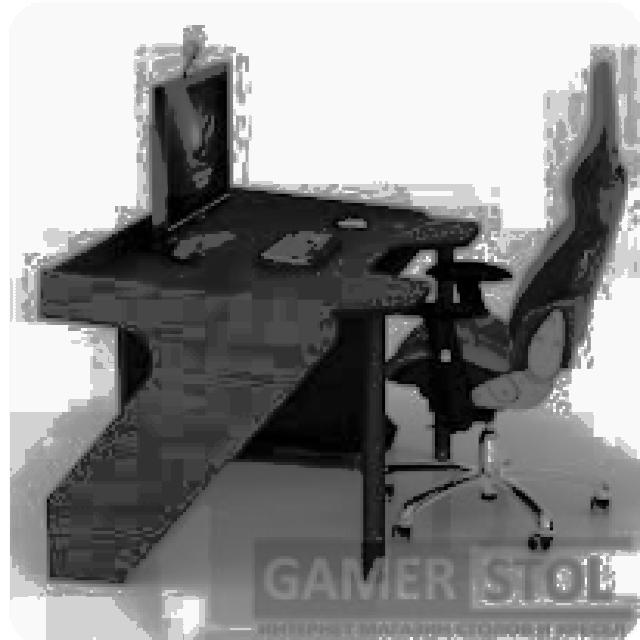book: (379, 59, 628, 553)
table: (37, 181, 482, 584)
